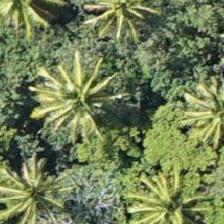coconut_tree: (27, 60, 117, 150), (0, 148, 79, 223), (130, 160, 220, 223), (75, 0, 165, 56), (174, 82, 223, 172)
